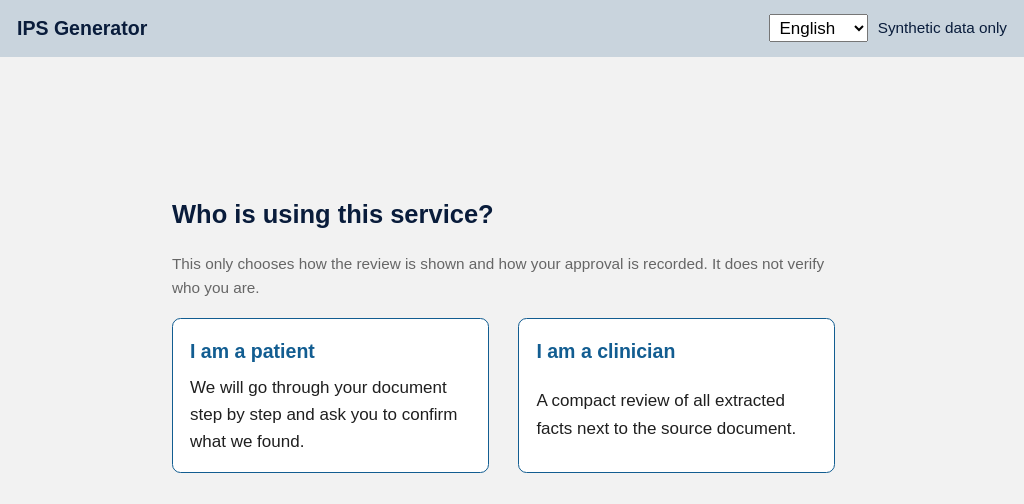
Test: App › shows the upload screen after a role is chosen, and remembers it for the session
Click the button "I am a patient" at (330, 396), box [172, 318, 489, 473]
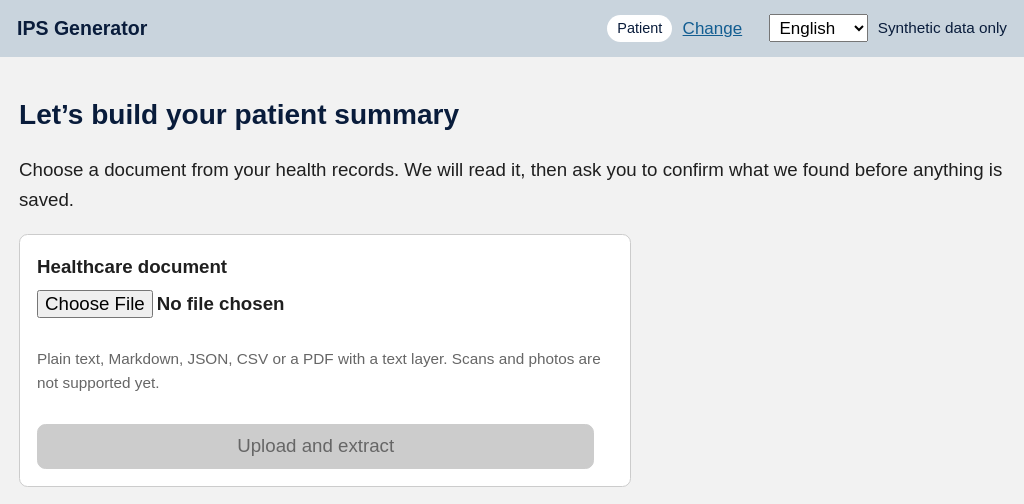
Now the button "Upload and extract" is disabled, box [37, 424, 594, 469]
Now the text "Patient" is shown, box [607, 15, 672, 42]
Click the button "Change" at (712, 28), box [683, 15, 742, 42]
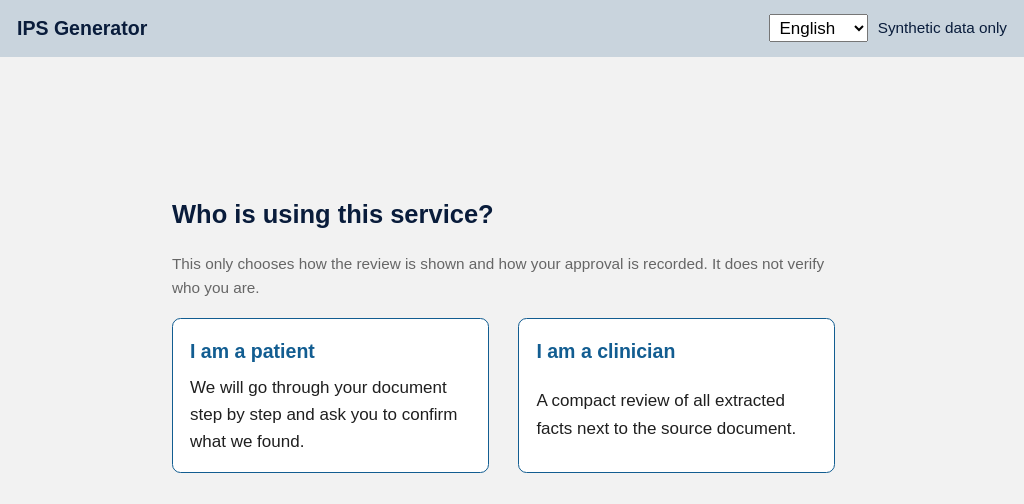
Now the heading "Who is using this service?" is shown, box [172, 200, 494, 228]
